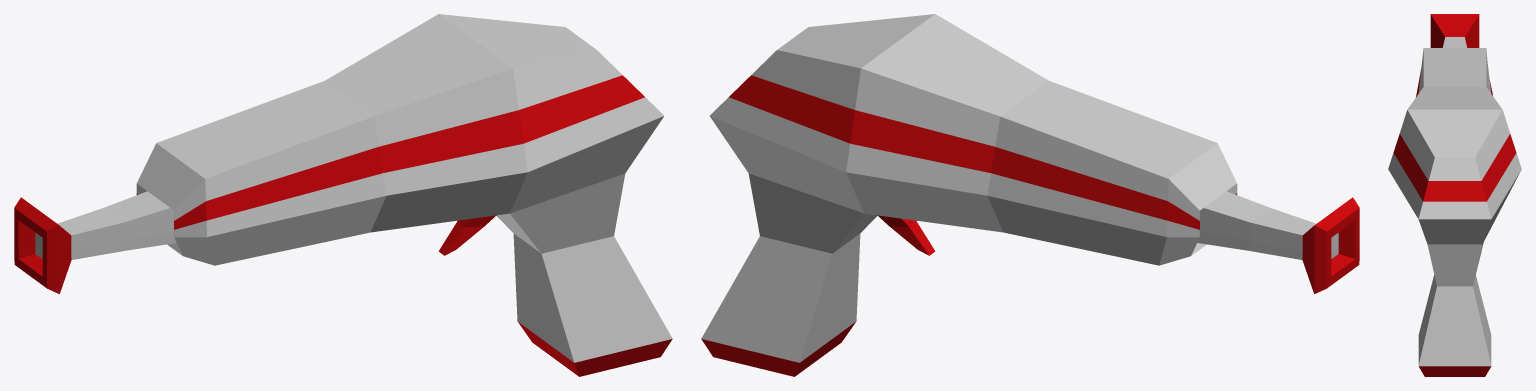
File: pistol_laser.obj
3 views of the same model, side by side, from view 1: azimuth 30°, elevation 25°; view 2: azimuth 150°, elevation 25°; view 3: azimuth 270°, elevation 25° (orthographic). The views are drawn at different scales.
Parts seen in each view (by area): view 1: Cube; view 2: Cube; view 3: Cube.
Part boxes in pixels (box(x1,y1,x2,y2)): Cube: box(14, 14, 672, 376); Cube: box(701, 14, 1359, 376); Cube: box(1388, 14, 1521, 376).
Bounding box in the file's own units: 12.47 × 6.56 × 3.67.
